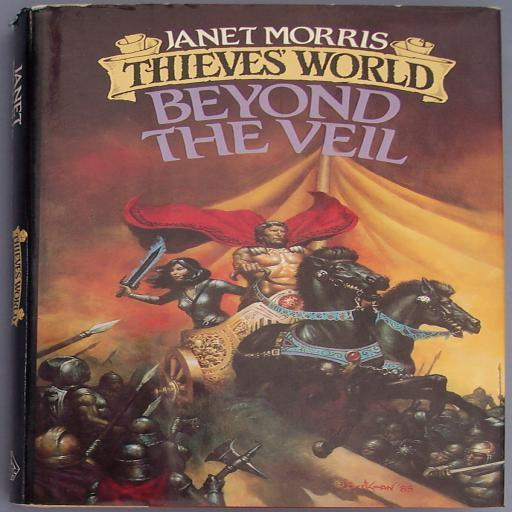horse: (231, 246, 390, 456), (358, 276, 504, 430)
